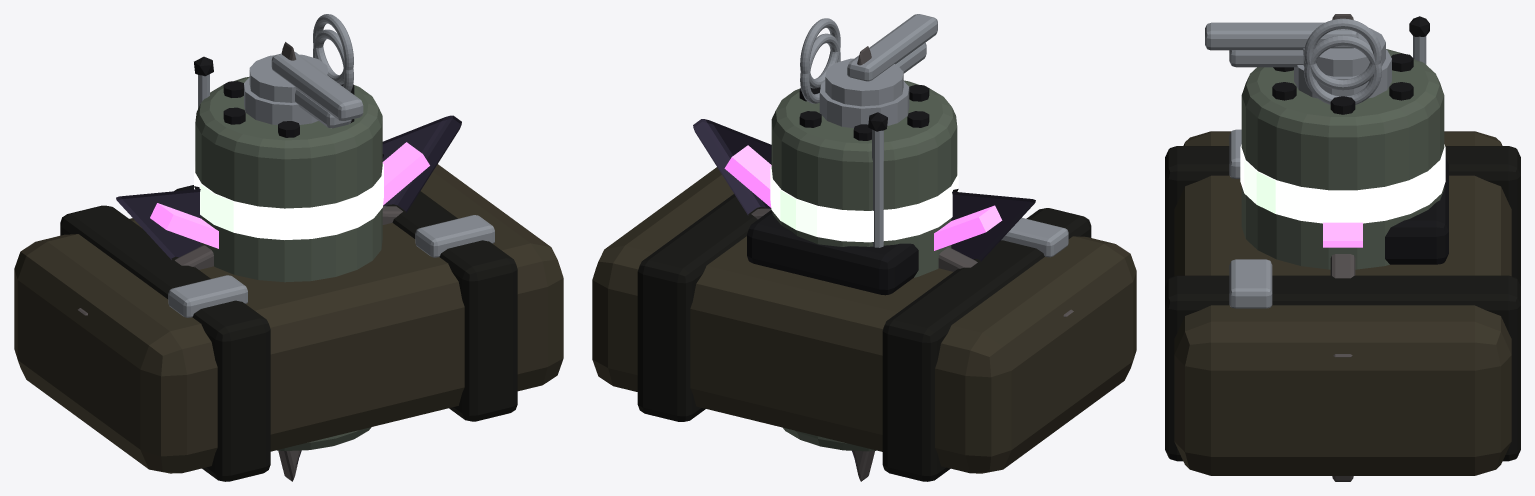
File: ordnance.glb
3 views of the same model, side by side, from view 1: azimuth 30°, elevation 25°; view 2: azimuth 150°, elevation 25°; view 3: azimuth 270°, elevation 25° (orthographic). The views are drawn at different scales.
Visible parts, largest first — view 1: SatchelBody, SmokeBody, GravityBody, ArcBody, FirestarBody, SmokePin, ArcPin; view 2: SatchelBody, SmokeBody, GravityBody, ArcBody, FirestarBody, SmokePin, ArcPin; view 3: SatchelBody, SmokeBody, ArcBody, SmokePin, ArcPin, GravityBody, FirestarBody.
Part boxes in pixels (bbox=[...]): SatchelBody: bbox=[14, 56, 563, 481]; SmokeBody: bbox=[194, 52, 383, 450]; GravityBody: bbox=[116, 115, 461, 464]; ArcBody: bbox=[244, 77, 351, 128]; FirestarBody: bbox=[78, 42, 402, 481]; SmokePin: bbox=[313, 14, 353, 84]; ArcPin: bbox=[313, 29, 353, 91]; SatchelBody: bbox=[592, 112, 1136, 481]; SmokeBody: bbox=[770, 14, 958, 451]; GravityBody: bbox=[693, 119, 1035, 465]; ArcBody: bbox=[819, 42, 926, 128]; FirestarBody: bbox=[751, 46, 1073, 481]; SmokePin: bbox=[800, 18, 840, 88]; ArcPin: bbox=[800, 33, 840, 103]; SatchelBody: bbox=[1165, 16, 1520, 475]; SmokeBody: bbox=[1205, 22, 1445, 269]; ArcBody: bbox=[1229, 49, 1391, 98]; SmokePin: bbox=[1304, 18, 1381, 90]; ArcPin: bbox=[1304, 35, 1381, 104]; GravityBody: bbox=[1323, 222, 1362, 247]; FirestarBody: bbox=[1330, 14, 1355, 481].
Size of the model in its own units: 0.17 by 0.1748 by 0.116.
